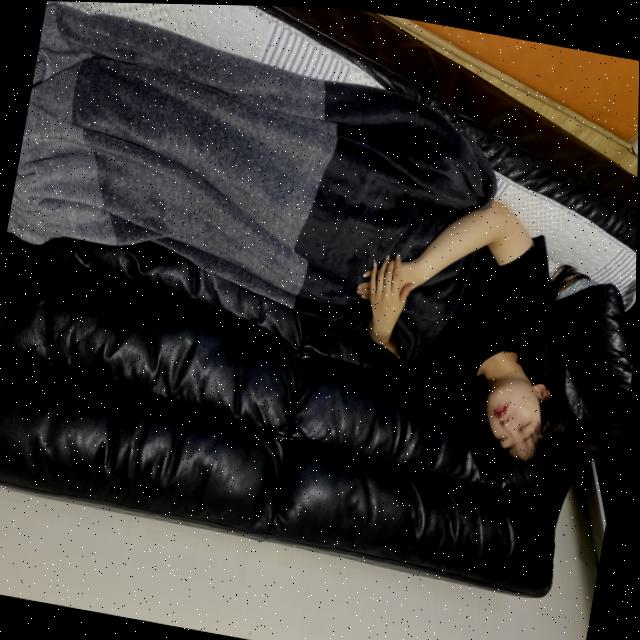sleeping-person: (0, 14, 627, 478)
